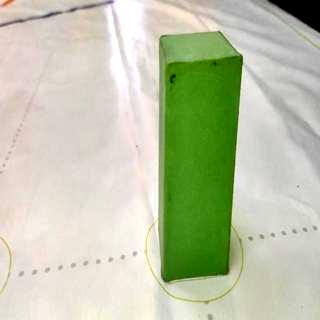greenbox: (158, 29, 244, 285)
